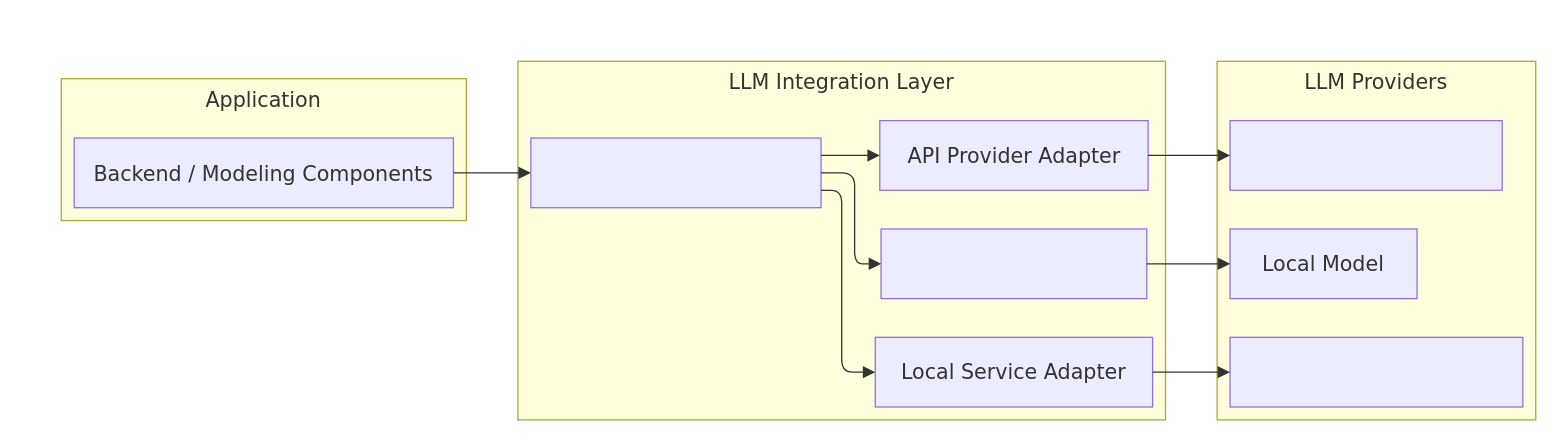
Image size: 1558x442. Some labels were removed from this diagram. The centre of each missing label's shape, as x and y in pixels:
"Common LLM Interface" belongs at (x=675, y=172).
"External API Provider" belongs at (x=1365, y=154).
"Local Inference Service" belongs at (x=1376, y=371).
"Local Model Adapter" belongs at (x=1013, y=263).
